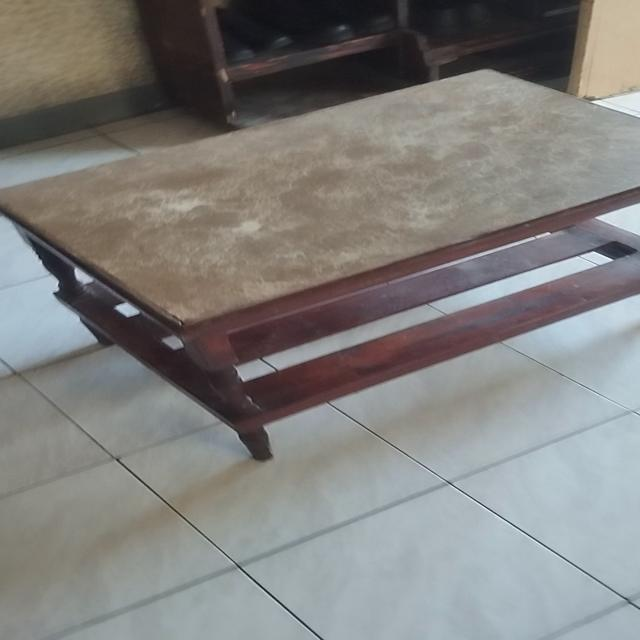table: (0, 66, 640, 467)
